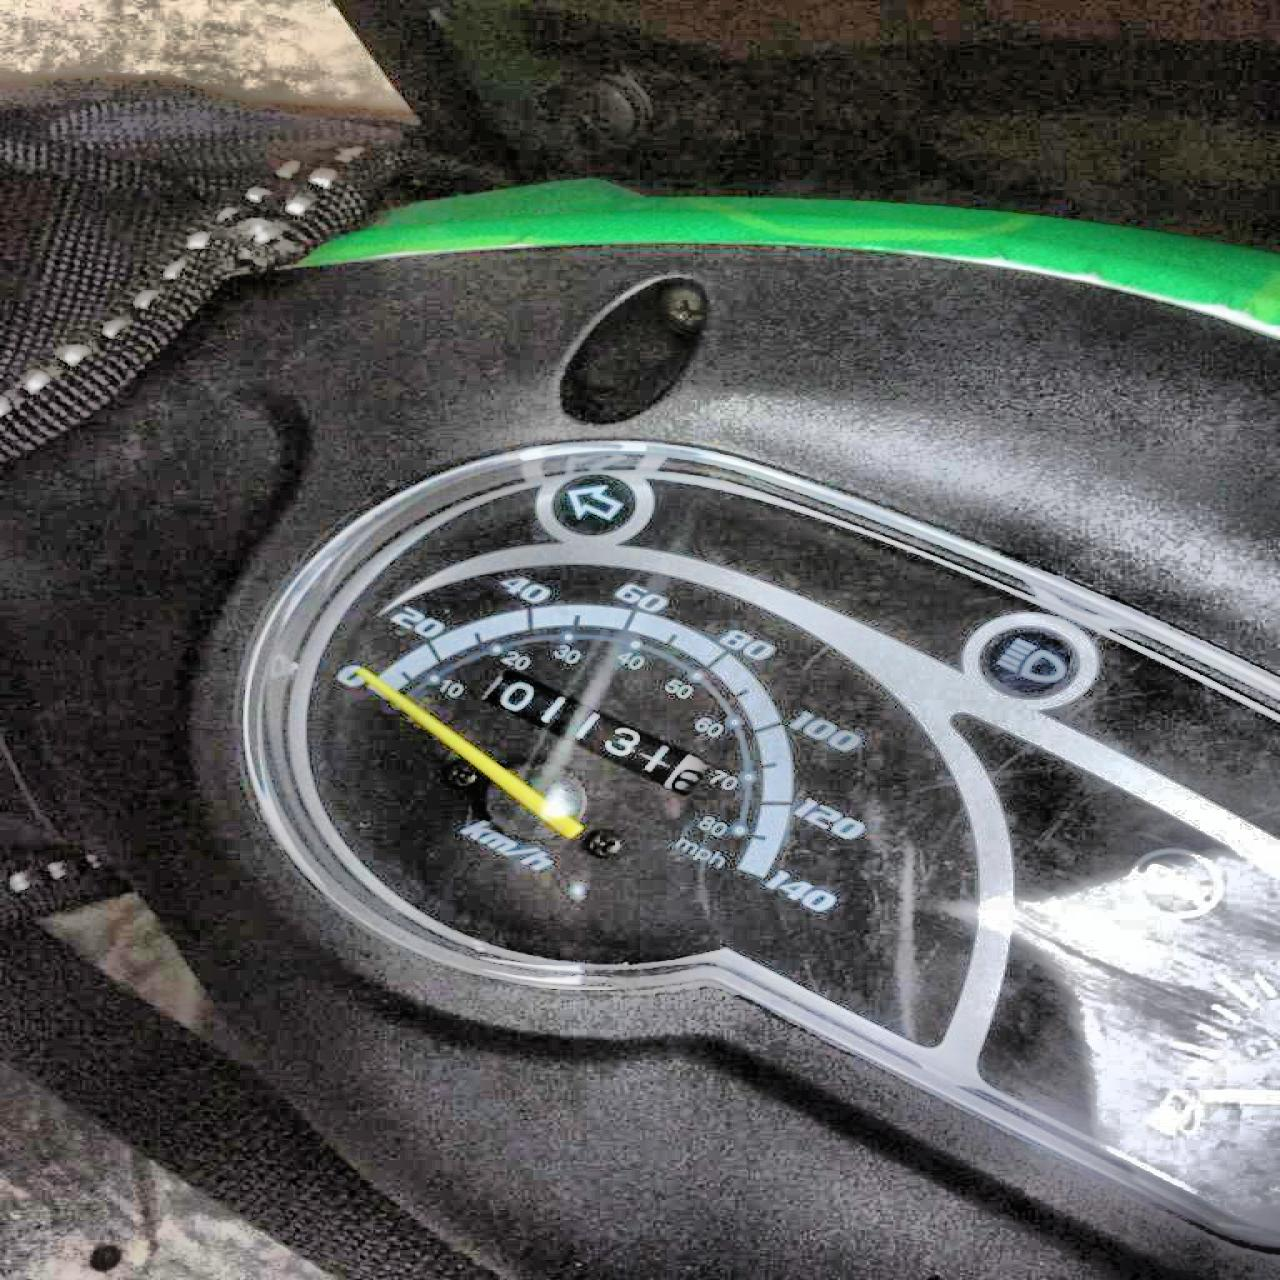0: (497, 680, 536, 714), (675, 682, 692, 697)
1: (641, 736, 673, 775), (538, 690, 564, 724), (573, 707, 600, 737)
5: (663, 676, 680, 692)
6: (672, 761, 701, 794), (693, 715, 710, 731)
odometer: (475, 666, 712, 796)
